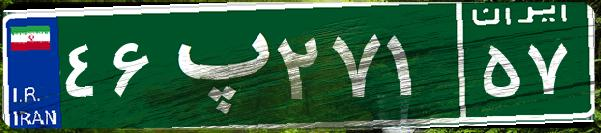1: (385, 28, 445, 110)
2: (273, 28, 330, 110)
4: (57, 26, 110, 107)
5: (475, 38, 525, 113)
6: (110, 28, 158, 105)
7: (330, 28, 385, 110), (525, 38, 570, 115)
پ: (158, 15, 273, 115)
